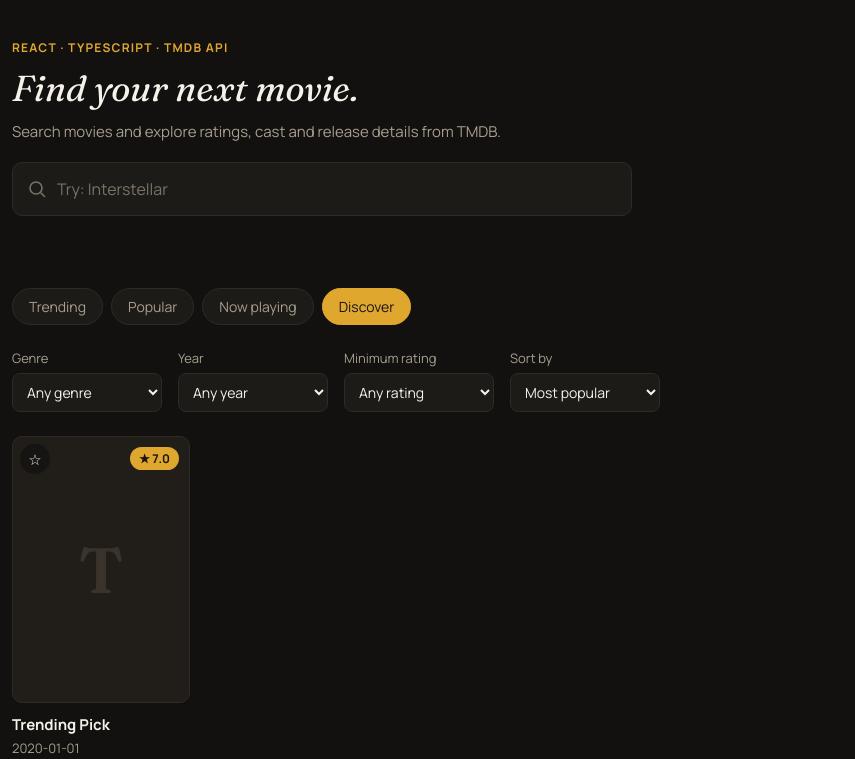
Test: Home browse mode › shows filters on the discover tab and writes them to the URL
Expected: the form named "discover filters" is shown, [12,349,660,412]
Select "7+" in the dropdown labelled "Minimum rating". click: [419, 393]
box: [344,373,494,412]
(page scrolled)
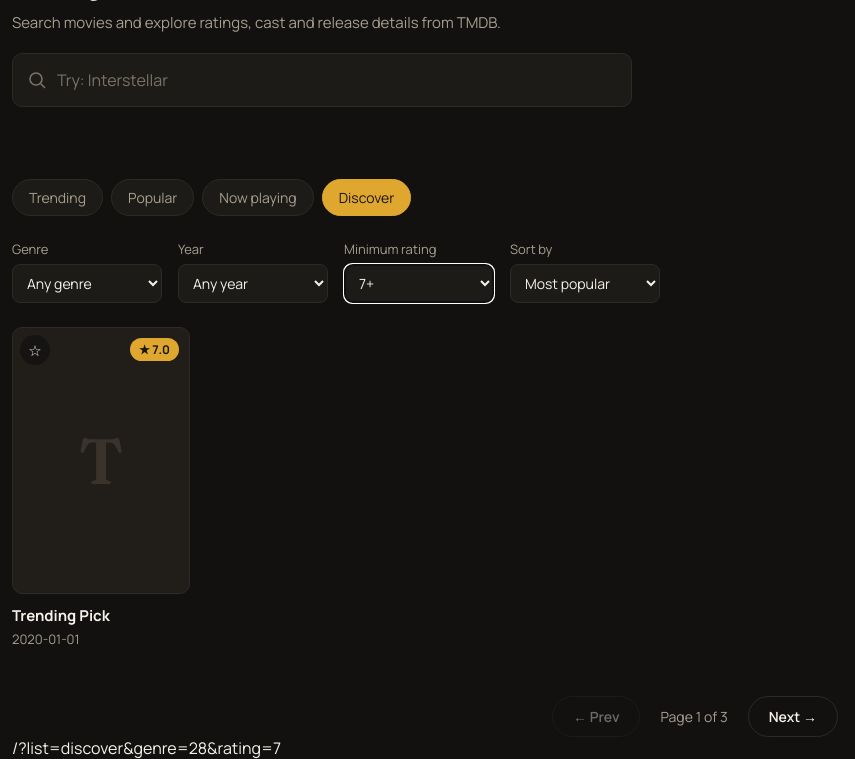
Expected: the text with test id "location" reads "/?list=discover&genre=28&rating=7", [12,737,281,758]
